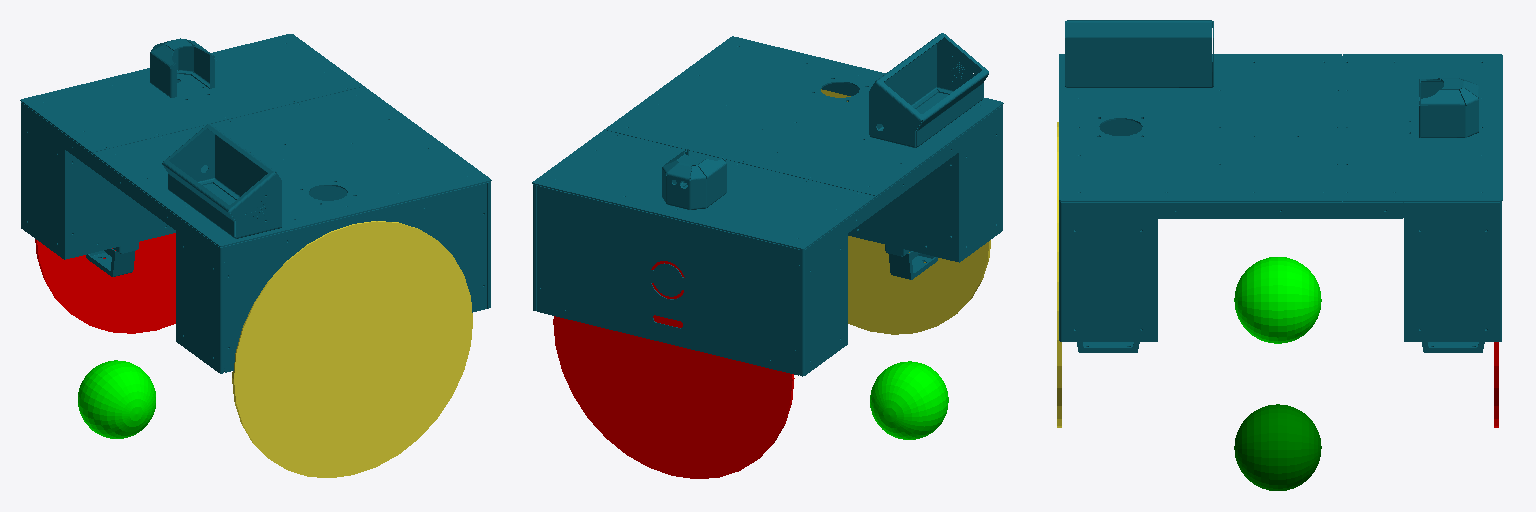
The robot description file, URDF, robot "box_bot":
<?xml version="1.0"?>
<robot name="box_bot">
        
  <material name="red">
      <color rgba="1.0 0.0 0.0 1"/>
  </material>

  <material name="green_light">
      <color rgba="0.0 1.0 0.0 1"/>
  </material>

  <material name="green_dark">
    <color rgba="0.0 0.5 0.0 1"/>
  </material>

  <material name="blue">
      <color rgba="0.0 0.0 1.0 1"/>
  </material>

  <material name="yellow">
      <color rgba="1.0 1.0 0.0 1"/>
  </material>

  <material name="black">
      <color rgba="0.0 0.0 0.0 1"/>
  </material>

  <material name="white">
      <color rgba="1.0 1.0 1.0 1"/>
  </material>

  <material name="box_bot_blue">
      <color rgba="0.088656 0.428691 0.491021 1"/>
  </material>

  <link name="base_link">
  </link>


  <!-- Body -->
  <link name="chassis">
    <visual>
      <geometry>
        <mesh filename="package://antworker_description/meshes/antworker_chassis.dae" scale="0.1 0.1 0.1"/>
      </geometry>
      <material name="box_bot_blue"/>
    </visual>
  </link>

  <joint name="base_link_joint" type="fixed">
    <origin rpy="0 0 0" xyz="0 0 0" />
    <parent link="base_link" />
    <child link="chassis" />
  </joint>

  <!-- Wheel Left -->
  <link name="left_wheel">      
      <visual>
        <origin rpy="0 1.5707 1.5707" xyz="0 0 0"/>
        <geometry>
          <cylinder length="0.001" radius="0.035"/>
        </geometry>
        <material name="red"/>
      </visual>
  </link>


  <joint name="joint_left_wheel" type="continuous">
    <origin rpy="0 0 0" xyz="0 0.05 -0.025"/>
    <child link="left_wheel"/>
    <parent link="chassis"/>
    <axis rpy="0 0 0" xyz="0 1 0"/>
    <limit effort="10000" velocity="1000"/>
    <joint_properties damping="1.0" friction="1.0"/>
  </joint>

  <!-- Wheel Right -->
  <link name="right_wheel">      
      <visual>
        <origin rpy="0 1.5707 1.5707" xyz="0 0 0"/>
        <geometry>
          <cylinder length="0.001" radius="0.035"/>
        </geometry>
        <material name="green"/>
      </visual>
  </link>


  <joint name="joint_right_wheel" type="continuous">  
    <origin rpy="0 0 0" xyz="0 -0.05 -0.025"/>
    <child link="right_wheel"/>
    <parent link="chassis"/>
    <axis rpy="0 0 0" xyz="0 1 0"/>
    <limit effort="10000" velocity="1000"/>
    <joint_properties damping="1.0" friction="1.0"/>
  </joint>


  <!-- Caster Wheel Front -->
  <link name="front_yaw_link">
      <visual>
        <origin rpy="0 1.5707 1.5707" xyz="0 0 0"/>
        <geometry>          
          <cylinder length="0.001" radius="0.0045000000000000005"/>
        </geometry>
        <material name="blue"/>
      </visual>
  </link>

  <joint name="front_yaw_joint" type="continuous">
    <origin rpy="0 0 0" xyz="0.04 0 -0.05" />
    <parent link="chassis" />
    <child link="front_yaw_link" />
    <axis xyz="0 0 1" />
    <limit effort="1000.0" velocity="100.0" />
    <dynamics damping="0.0" friction="0.1"/>
  </joint>



  <link name="front_roll_link">
      <visual>
        <origin rpy="0 1.5707 1.5707" xyz="0 0 0"/>
        <geometry>
          <cylinder length="0.001" radius="0.0045000000000000005"/>
        </geometry>
        <material name="red"/>
      </visual>
  </link>

  <joint name="front_roll_joint" type="continuous">
    <origin rpy="0 0 0" xyz="0 0 0" />
    <parent link="front_yaw_link" />
    <child link="front_roll_link" />
    <axis xyz="1 0 0" />
    <limit effort="1000.0" velocity="100.0" />
    <dynamics damping="0.0" friction="0.1"/>
  </joint>


  <link name="front_pitch_link">
    <visual>
      <origin rpy="0 1.5707 1.5707" xyz="0 0 0"/>
      <geometry>
        <sphere radius="0.010"/>
      </geometry>
      <material name="green_dark"/>
    </visual>
  </link>



  <joint name="front_pitch_joint" type="continuous">
    <origin rpy="0 0 0" xyz="0 0 0" />
    <parent link="front_roll_link" />
    <child link="front_pitch_link" />
    <axis xyz="0 1 0" />
    <limit effort="1000.0" velocity="100.0" />
    <dynamics damping="0.0" friction="0.1"/>
  </joint>

<!-- Caster Wheel Back -->
  <link name="back_yaw_link">
    <visual>
        <origin rpy="0 1.5707 1.5707" xyz="0 0 0"/>
        <geometry>
          <cylinder length="0.001" radius="0.0045000000000000005"/>
        </geometry>
        <material name="blue"/>
      </visual>

  </link>

  <joint name="back_yaw_joint" type="continuous">
    <origin rpy="0 0 0" xyz="-0.04 0 -0.05" />
    <parent link="chassis" />
    <child link="back_yaw_link" />
    <axis xyz="0 0 1" />
    <limit effort="1000.0" velocity="100.0" />
    <dynamics damping="0.0" friction="0.1"/>
  </joint>



  <link name="back_roll_link">
      <visual>
        <origin rpy="0 1.5707 1.5707" xyz="0 0 0"/>
        <geometry>
          <cylinder length="0.001" radius="0.0045000000000000005"/>
        </geometry>
        <material name="red"/>
      </visual>
  </link>

  <joint name="back_roll_joint" type="continuous">
    <origin rpy="0 0 0" xyz="0 0 0" />
    <parent link="back_yaw_link" />
    <child link="back_roll_link" />
    <axis xyz="1 0 0" />
    <limit effort="1000.0" velocity="100.0" />
    <dynamics damping="0.0" friction="0.1"/>
  </joint>



  <link name="back_pitch_link">
    <visual>
      <origin rpy="0 1.5707 1.5707" xyz="0 0 0"/>
      <geometry>
        <sphere radius="0.010"/>
      </geometry>
      <material name="green_light"/>
    </visual>
  </link>

  <joint name="back_pitch_joint" type="continuous">
    <origin rpy="0 0 0" xyz="0 0 0" />
    <parent link="back_roll_link" />
    <child link="back_pitch_link" />
    <axis xyz="0 1 0" />
    <limit effort="1000.0" velocity="100.0" />
    <dynamics damping="0.0" friction="0.1"/>
  </joint>

</robot>

--- What the picture shows (computed from the rendered views, not written in the file) ---
3 views of the same robot in one strip: view 1: azimuth 30°, elevation 25°; view 2: azimuth 150°, elevation 25°; view 3: azimuth 270°, elevation 25° (orthographic).
Model box_bot with 10 links and 9 joints (8 continuous, 1 fixed), rooted at base_link, posed every joint at zero.
Visible links, largest first — view 1: chassis, right_wheel, left_wheel, back_pitch_link; view 2: chassis, left_wheel, right_wheel, back_pitch_link; view 3: chassis, back_pitch_link, front_pitch_link, right_wheel.
Boxes of the visible links, <box> form: chassis: <box>20,34,491,373</box>; right_wheel: <box>232,221,472,477</box>; left_wheel: <box>35,233,175,333</box>; back_pitch_link: <box>78,360,155,438</box>; chassis: <box>532,33,1003,376</box>; left_wheel: <box>553,261,794,478</box>; right_wheel: <box>821,89,990,334</box>; back_pitch_link: <box>870,361,948,439</box>; chassis: <box>1059,20,1502,352</box>; back_pitch_link: <box>1234,257,1321,343</box>; front_pitch_link: <box>1234,404,1321,490</box>; right_wheel: <box>1057,122,1061,427</box>.
Bounding box of the posed robot: 0.1 × 0.1019 × 0.0891 m (x, y, z).
Meshes: 1 distinct files referenced, 1 mesh visuals loaded (1 Collada DAE).